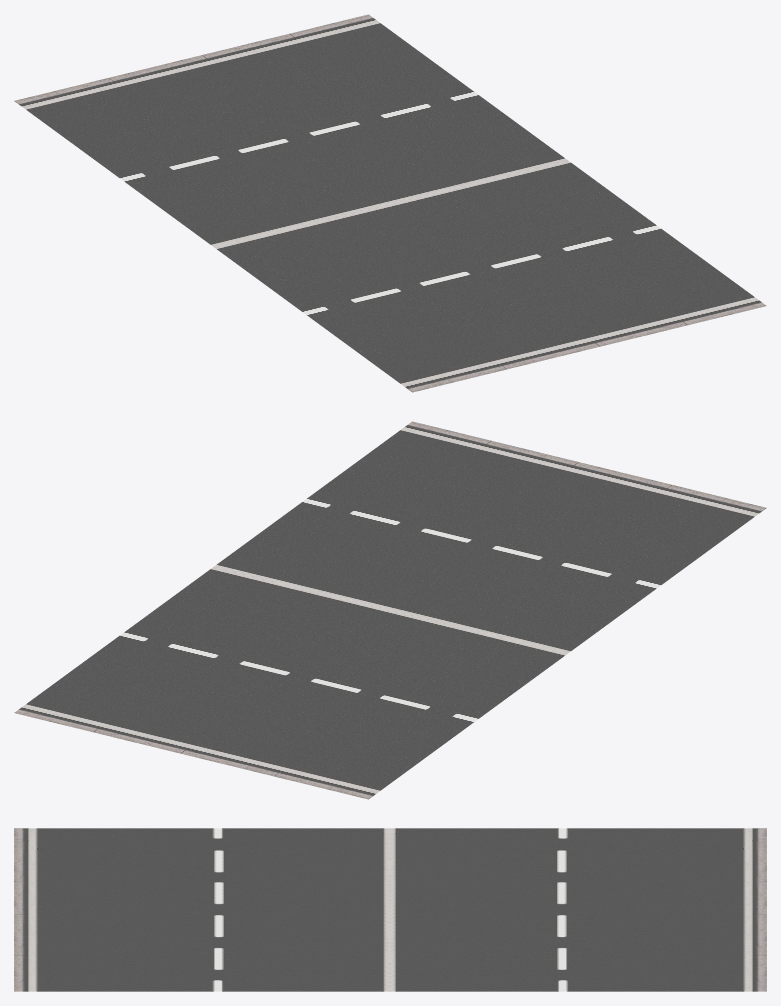
Rendered from 4 lines.FBX.
3 renders of one model, top to bottom at view 1: azimuth 30°, elevation 25°; view 2: azimuth 150°, elevation 25°; view 3: azimuth 270°, elevation 25°, orthographic. The views are drawn at different scales.
Parts seen in each view (by area): view 1: Plane237; view 2: Plane237; view 3: Plane237.
Part boxes in pixels (box(x1,y1,x2,y2)): Plane237: box(14, 14, 766, 392); Plane237: box(14, 421, 766, 799); Plane237: box(14, 828, 766, 991).
Bounding box in the file's own units: 12.03 × 6.63e-15 × 23.4.
